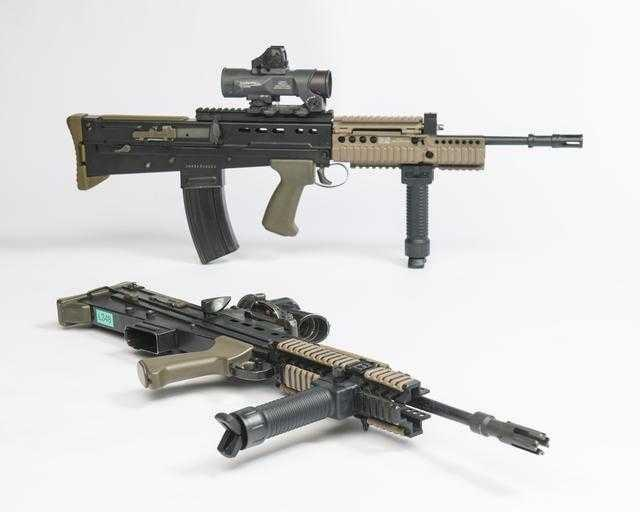heavyweapon: (31, 34, 618, 278), (41, 269, 576, 474)
